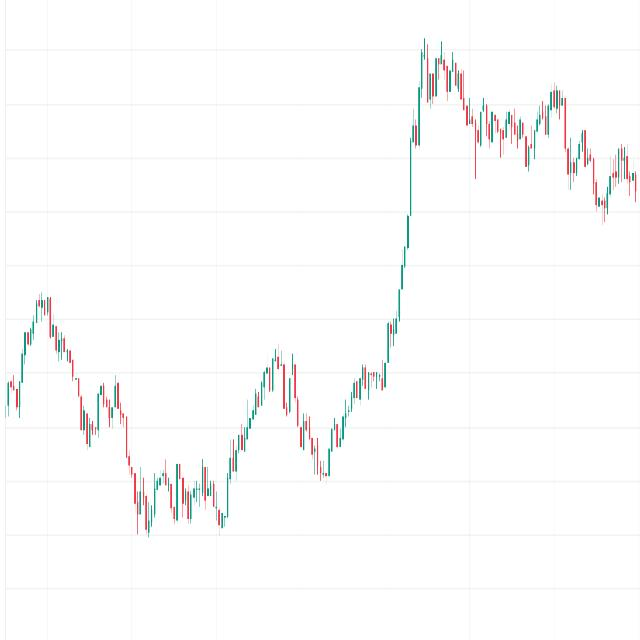Falling-Wedge: (513, 4, 620, 234)
rectangle: (146, 451, 224, 540)
